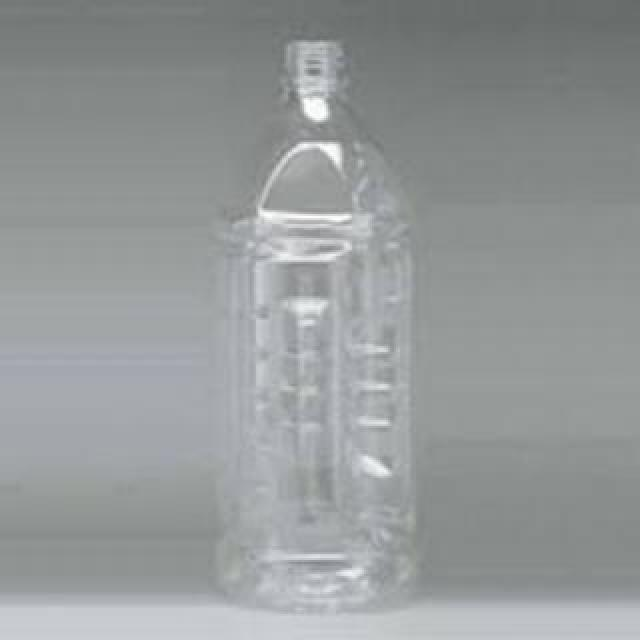Pet_Bottle: (214, 42, 426, 624)
